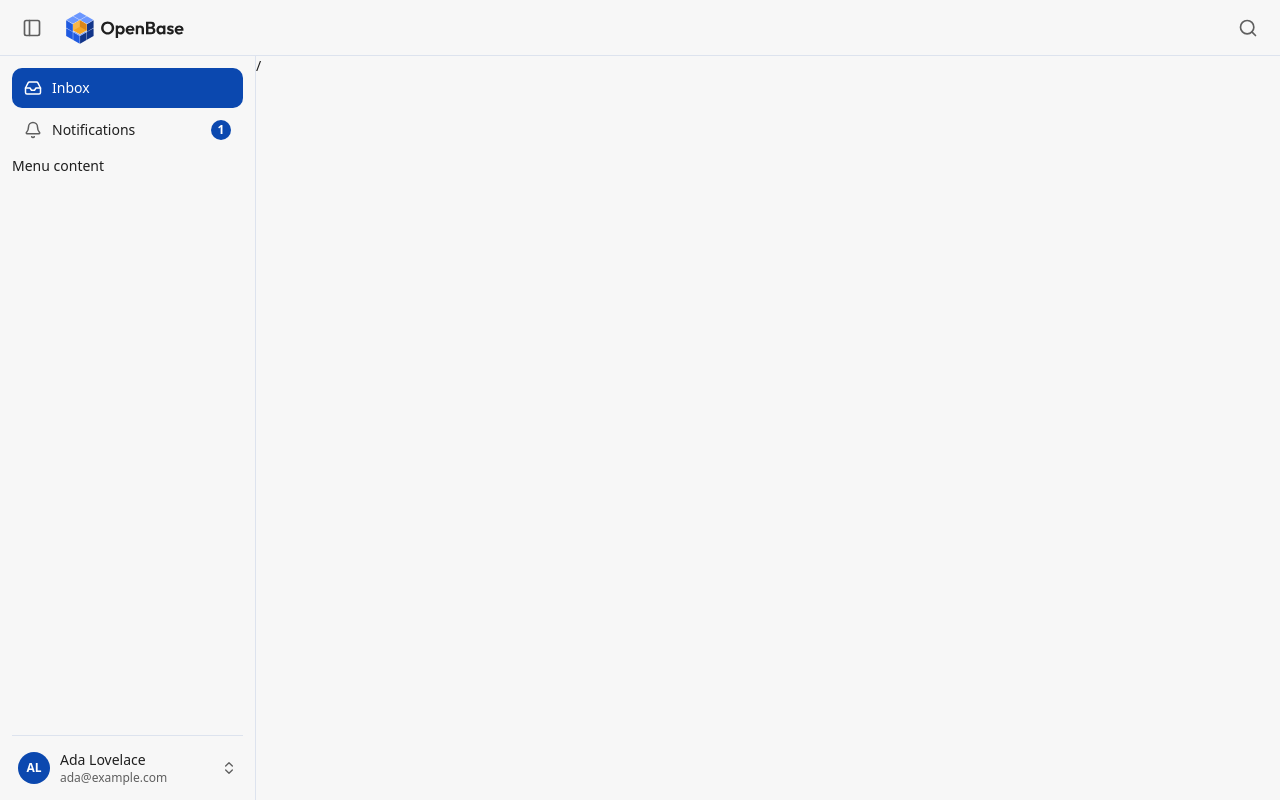
it: Notifications in the docked menu › names the base and table a notification is about
What coordinates should you click on to do the following:
click the button "Notifications 1"
I would click on:
 (128, 130)
Its box is [12,110,243,150].
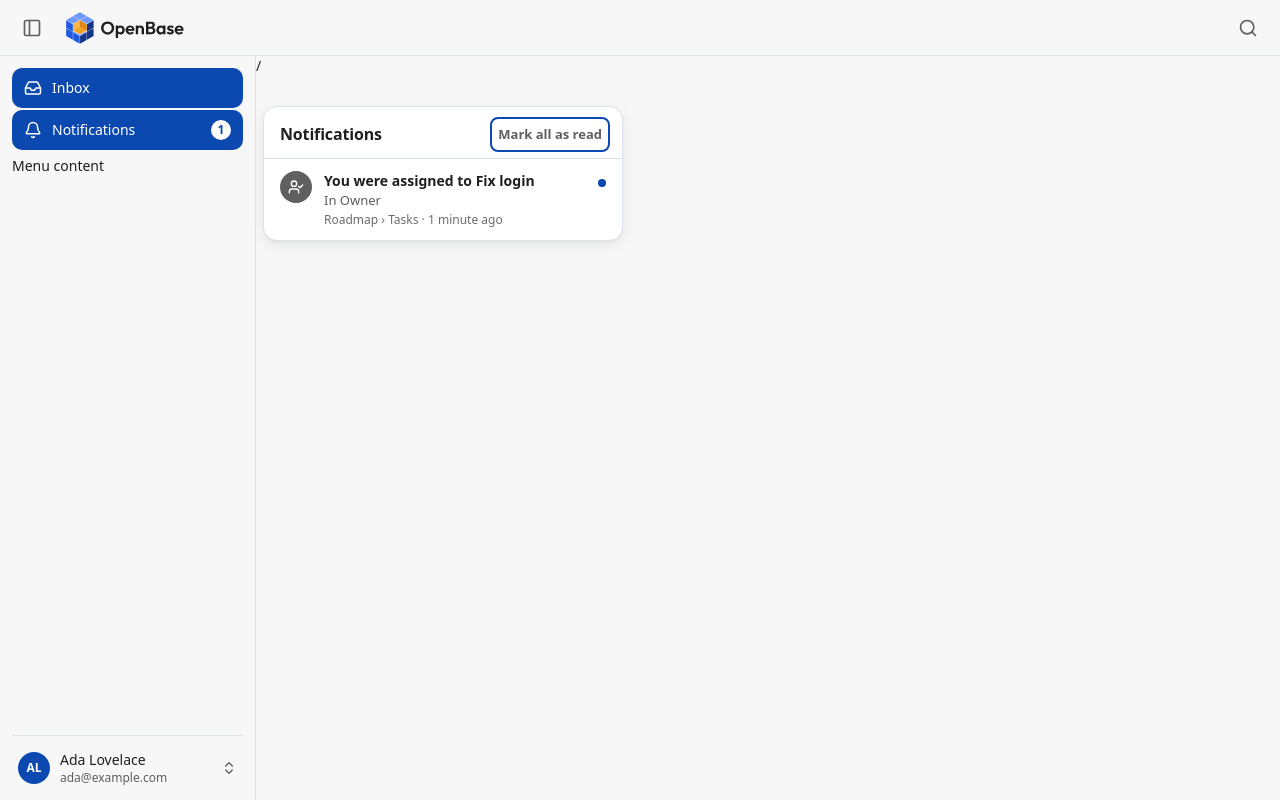
Now the list item shows "In Owner", box [264,159,622,240]
Now the list item shows "Roadmap › Tasks · 1 minute ago", box [264,159,622,240]
